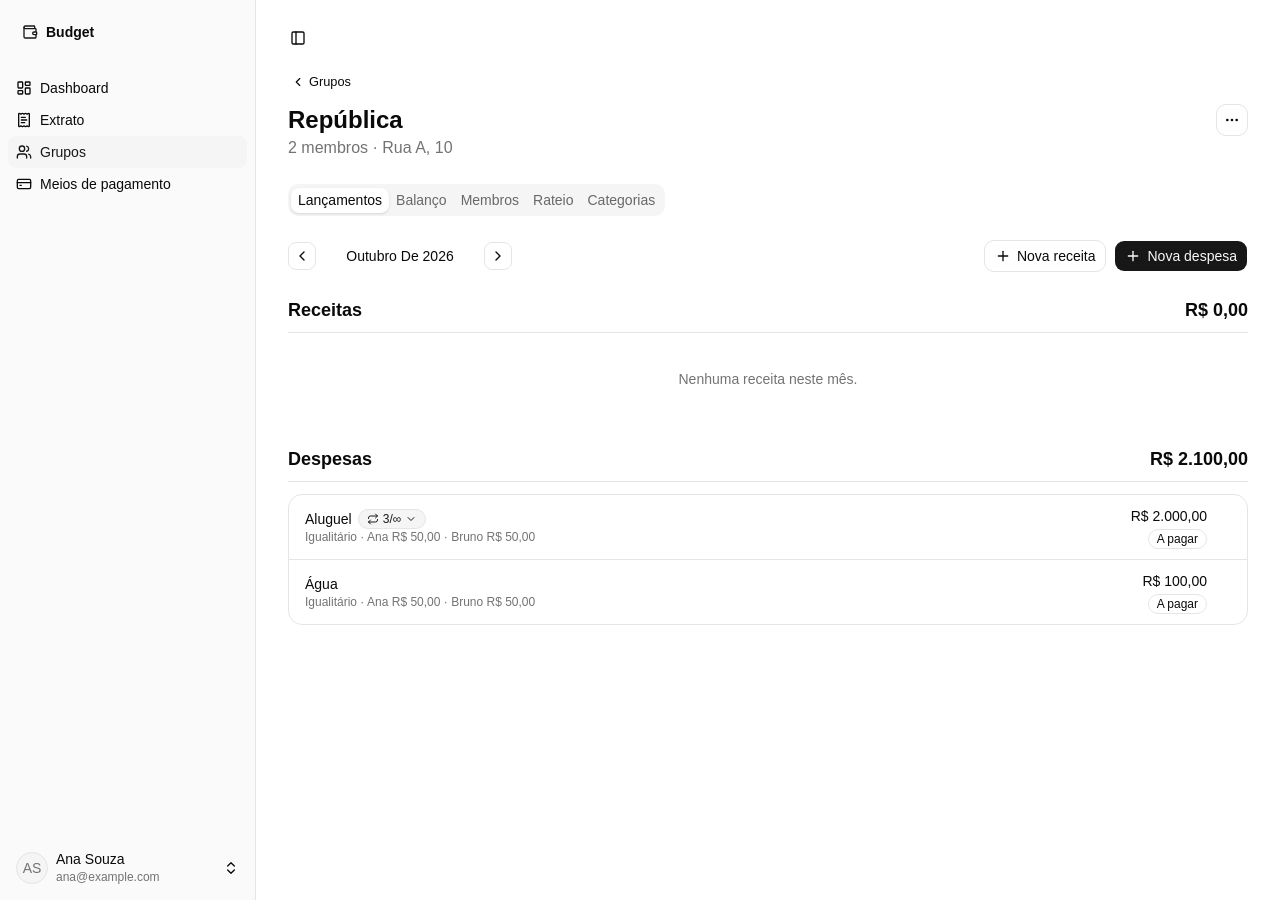
Scenario: Group recurrences (/grupos/$groupId) › ends an open-ended series from its badge, translating the API errors
The image size is (1280, 900).
Expected: the heading "República" is shown, [288,106,403,133]
Click the button named "Recorrência de Aluguel: 3, sem data de término" at (392, 519), box [358,509,426,529]
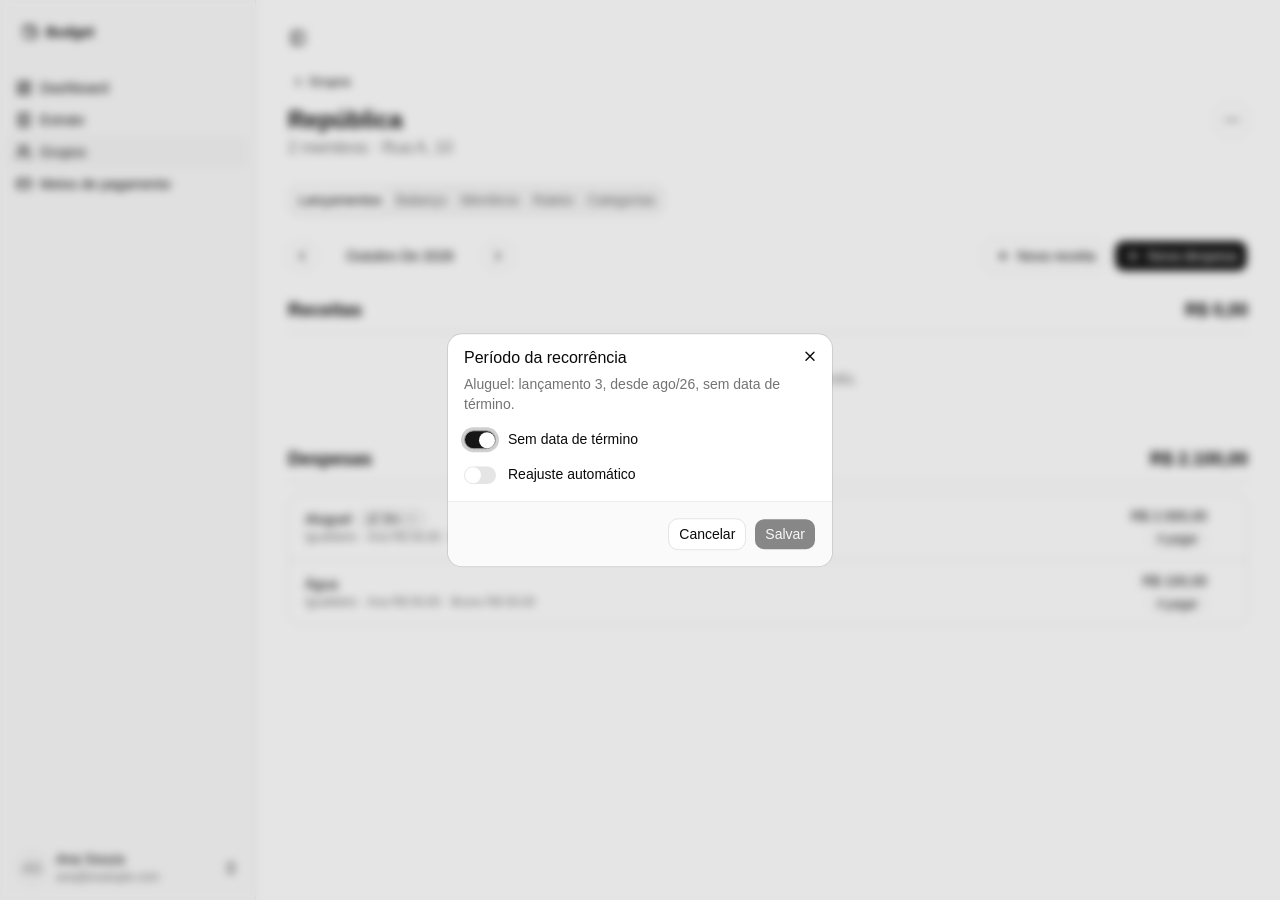
Click the 1st switch named "Sem data de término" at (480, 440), box [464,431,496,449]
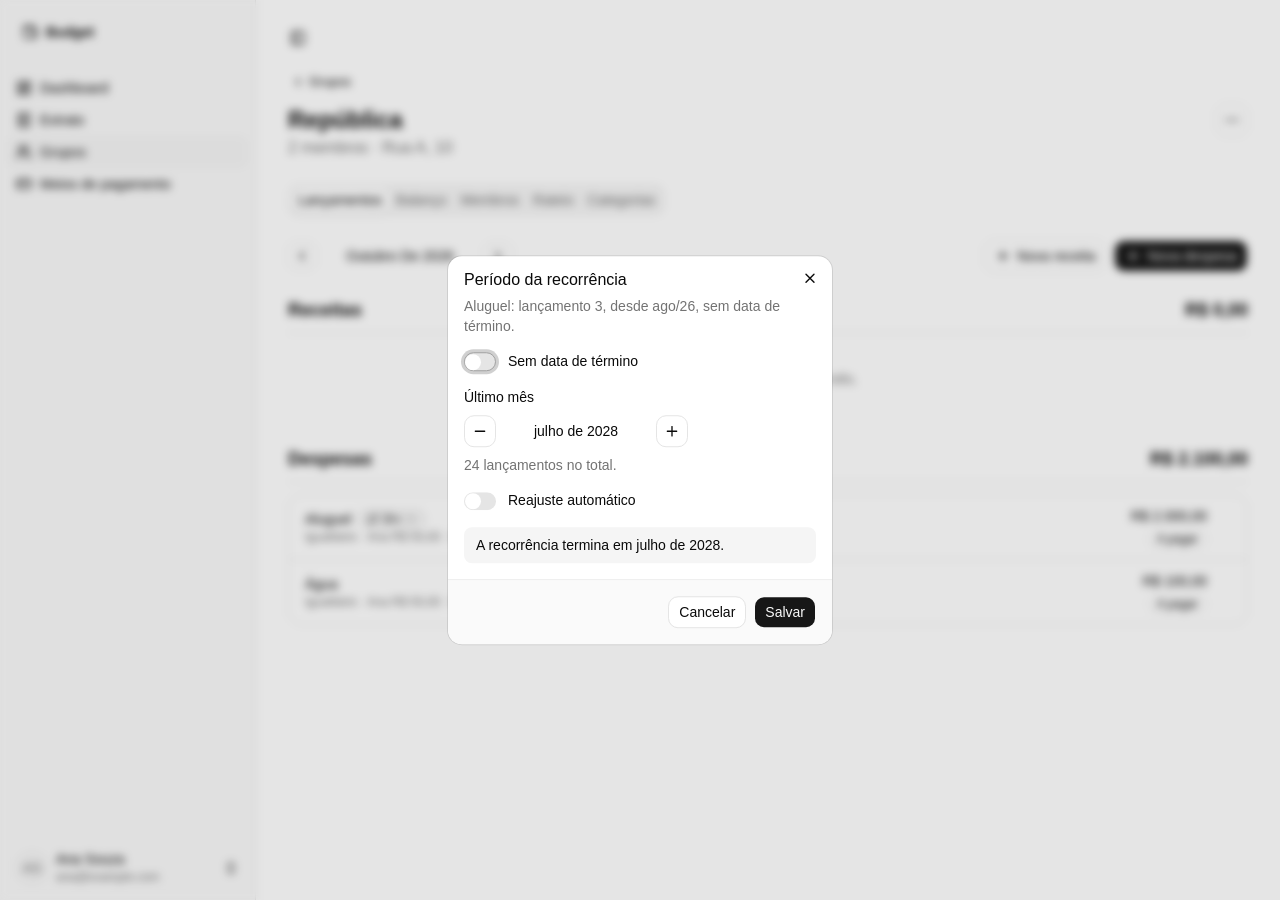
Expected: the dialog "Período da recorrência" shows "julho de 2028", [534,424,618,440]
Click the button "Salvar" at (785, 612), box [754,596,816,628]
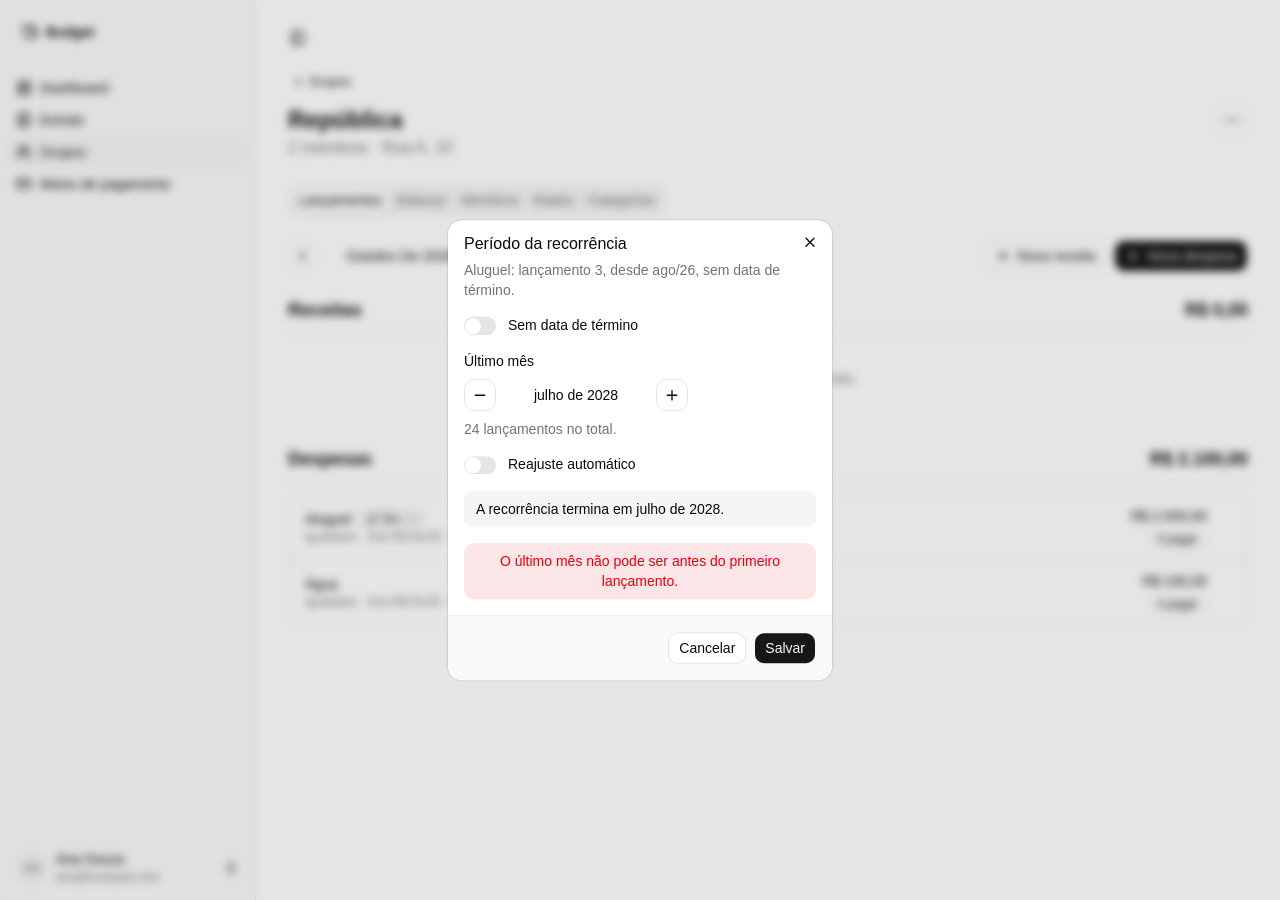
Expected: the message "O último mês não pode ser antes do primeiro lançamento." is shown, [464,543,816,599]
